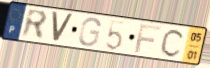5: (104, 19, 127, 52)
C: (159, 27, 186, 58)
F: (133, 23, 163, 54)
G: (77, 16, 103, 48)
R: (20, 7, 49, 42)
V: (50, 11, 75, 45)
